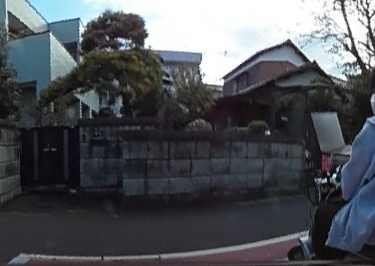person: (314, 61, 375, 257)
